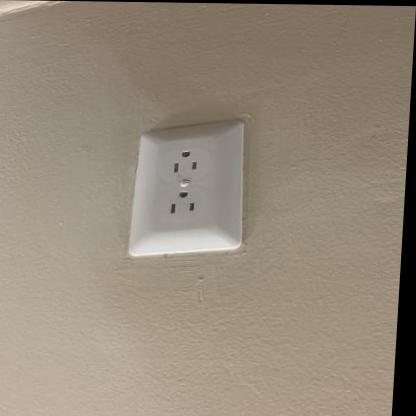OUTLET: (126, 115, 251, 260)
